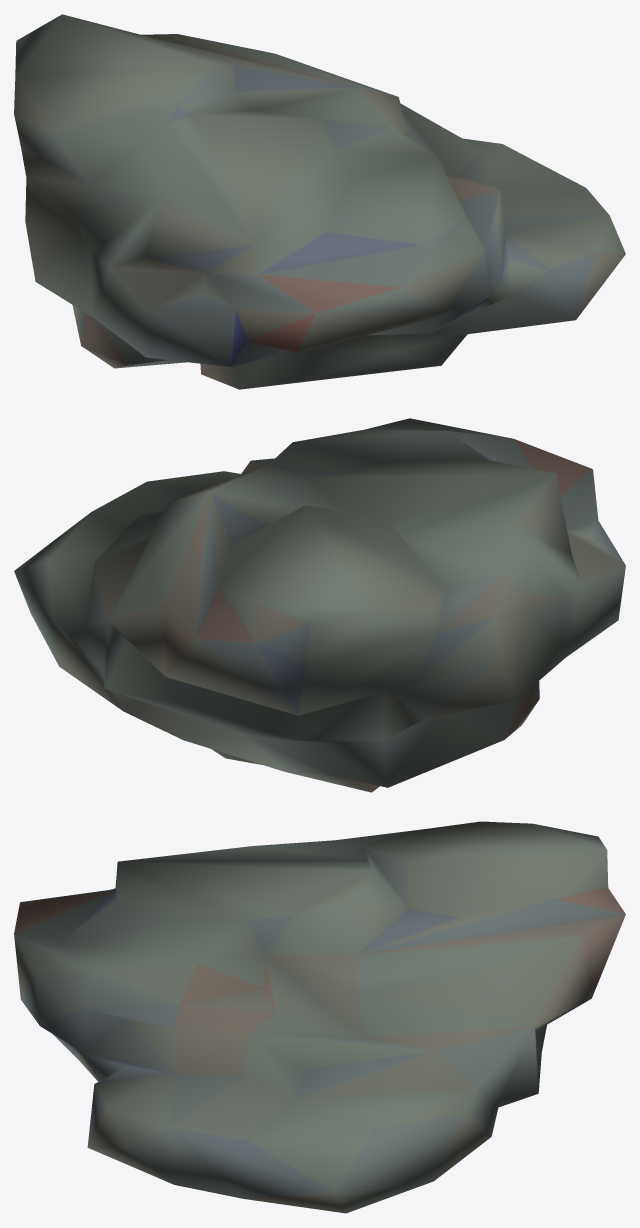
Rendered from rock_stack_01_COL.fbx.
3 views of the same model, one above another, from view 1: azimuth 30°, elevation 25°; view 2: azimuth 150°, elevation 25°; view 3: azimuth 270°, elevation 25° (orthographic).
Parts seen in each view (by area): view 1: rock_stack_01_COL; view 2: rock_stack_01_COL; view 3: rock_stack_01_COL.
Boxes of the visible parts, x1=… form: rock_stack_01_COL: x1=14, y1=14, x2=625, y2=389; rock_stack_01_COL: x1=14, y1=418, x2=625, y2=792; rock_stack_01_COL: x1=14, y1=821, x2=625, y2=1213.
Bounding box in the file's own units: 964 × 483 × 987.
